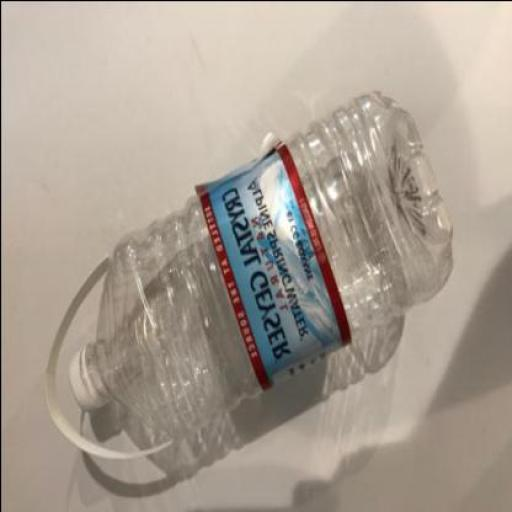plastic: (42, 92, 452, 460), (192, 143, 350, 391), (66, 345, 108, 417)
